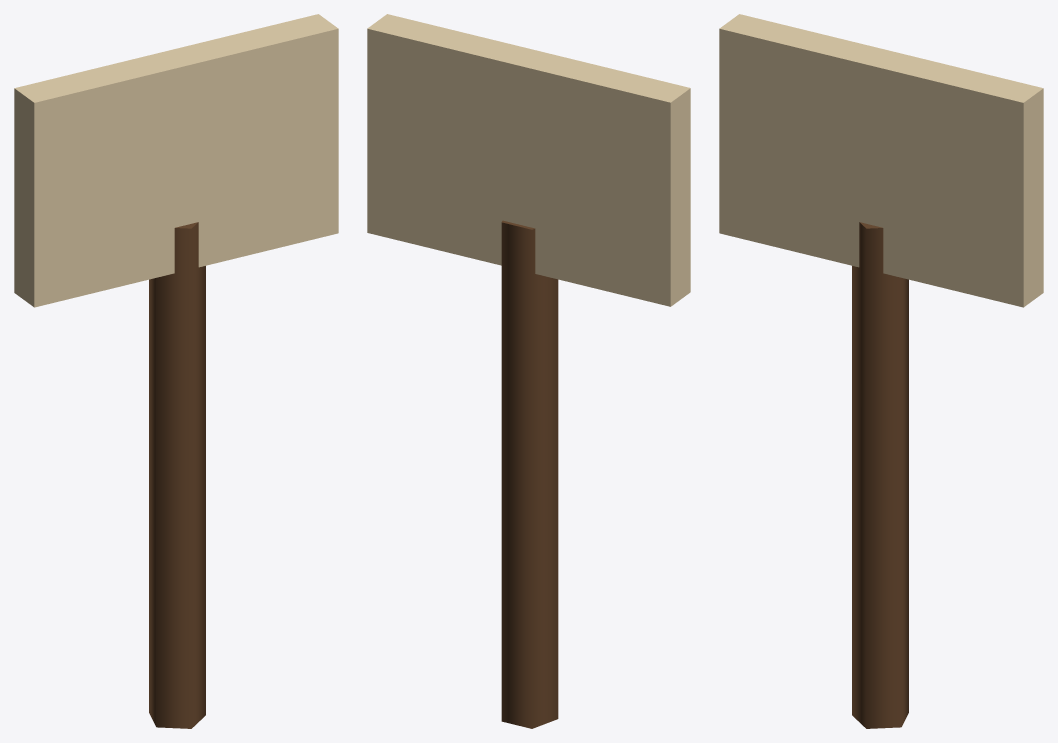
Rendered from sign_post.glb.
3 views of the same model, side by side, from view 1: azimuth 30°, elevation 25°; view 2: azimuth 150°, elevation 25°; view 3: azimuth 330°, elevation 25° (orthographic).
Visible parts, largest first — view 1: sign_post; view 2: sign_post; view 3: sign_post.
Boxes of the visible parts, left/top/right/bottom form: sign_post: left=14, top=14, right=338, bottom=728; sign_post: left=367, top=14, right=690, bottom=728; sign_post: left=719, top=14, right=1043, bottom=728.
Bounding box in the file's own units: 0.7 × 1.45 × 0.1085.
